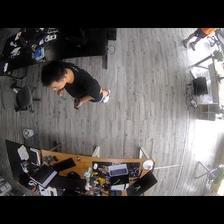normal: (41, 61, 110, 110)
